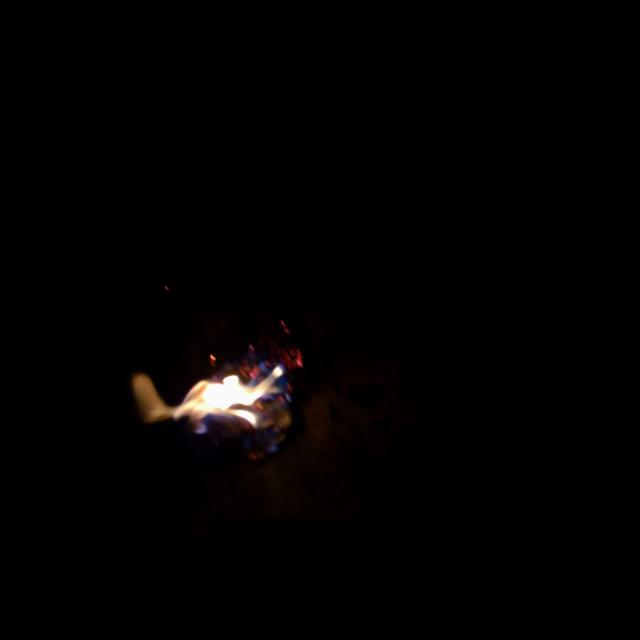firerotation: (130, 354, 289, 442)
